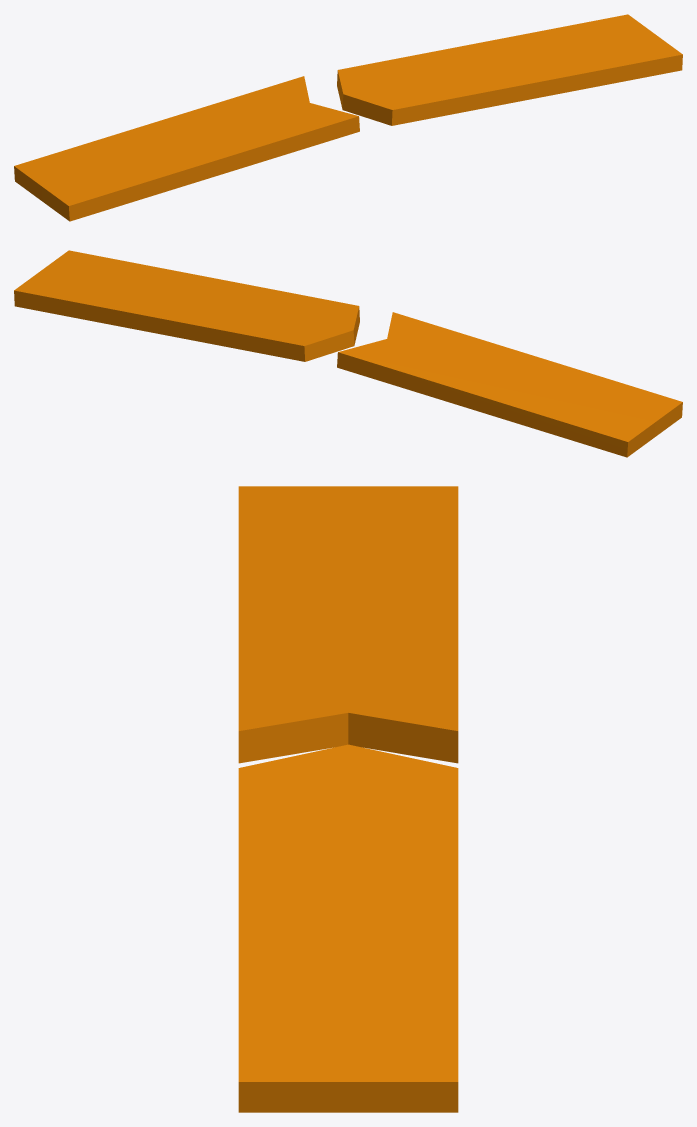
The model's file is Broken_plank_7.fbx.
The picture shows the model from 3 angles, top to bottom: view 1: azimuth 30°, elevation 25°; view 2: azimuth 150°, elevation 25°; view 3: azimuth 270°, elevation 25°; orthographic projection. The views are drawn at different scales.
Visible parts, largest first — view 1: Cube.059, Cube.054; view 2: Cube.059, Cube.054; view 3: Cube.054, Cube.059.
Part boxes in pixels (x1,y1,x2,y2): Cube.059: [14, 76, 359, 221]; Cube.054: [337, 14, 682, 125]; Cube.059: [337, 312, 682, 457]; Cube.054: [14, 250, 359, 361]; Cube.054: [238, 744, 458, 1112]; Cube.059: [238, 486, 458, 763].
Bounding box in the file's own units: 84.45 × 4.58 × 13.07.
